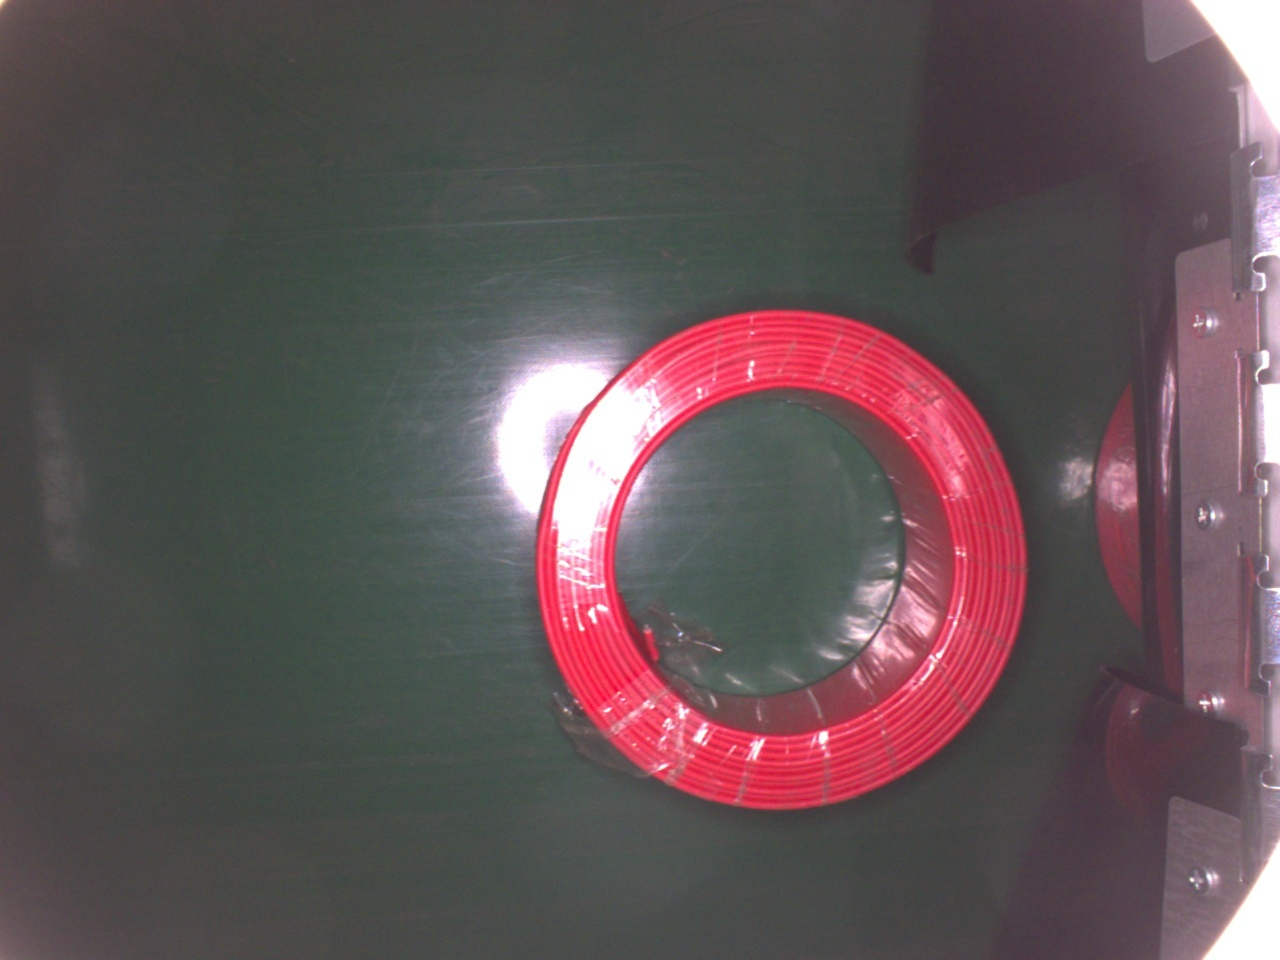red: (527, 306, 1028, 816)
